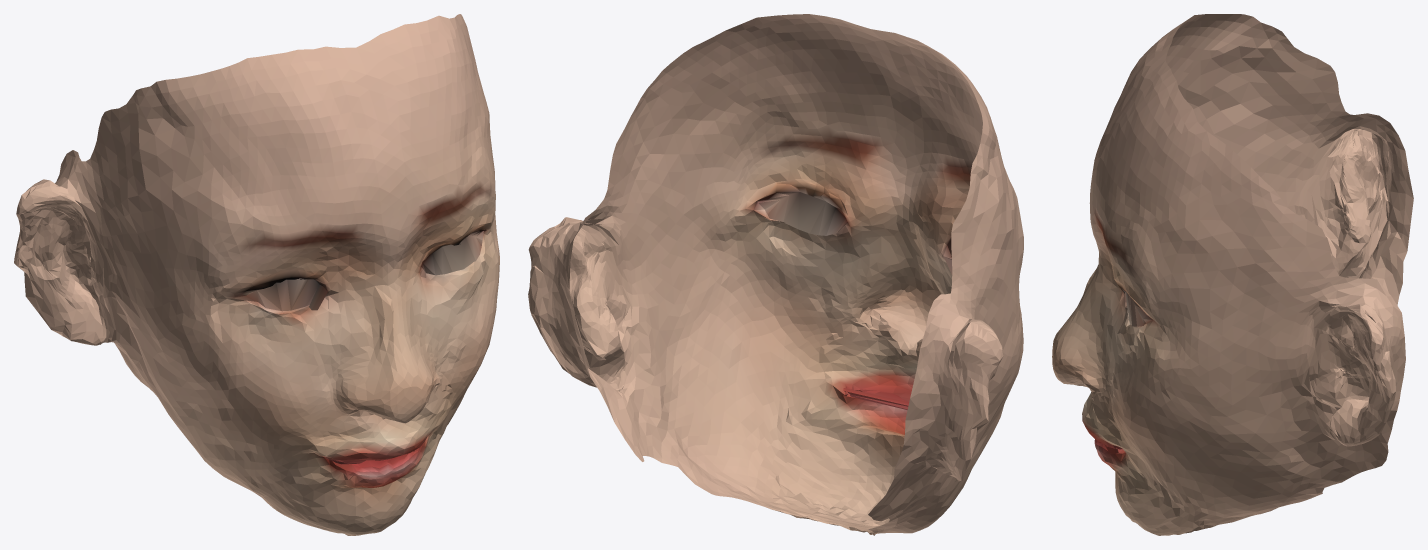
Rendered from seed0004.obj.
3 renders of one model, left to right at view 1: azimuth 30°, elevation 25°; view 2: azimuth 150°, elevation 25°; view 3: azimuth 270°, elevation 25°, orthographic. The views are drawn at different scales.
Size of the model in its own units: 210 by 215 by 150.
